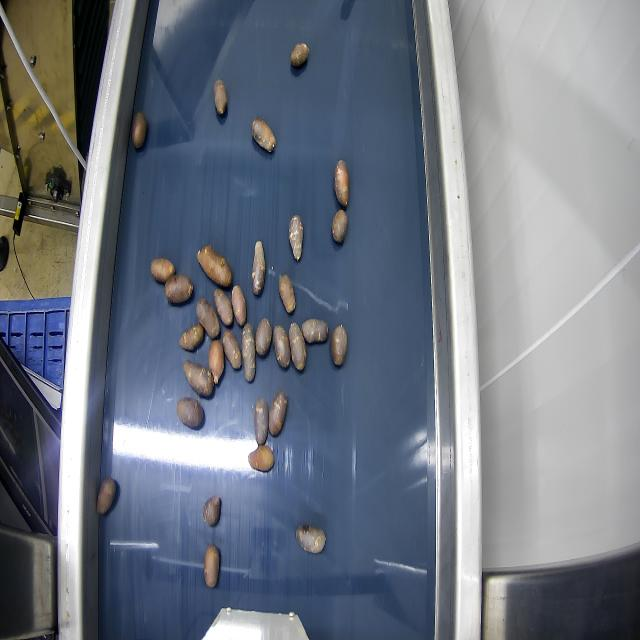Baby Potato: (196, 244, 232, 288), (184, 359, 214, 397), (175, 396, 205, 430), (296, 521, 326, 554), (196, 298, 220, 338), (268, 389, 288, 436), (288, 322, 306, 371), (164, 274, 193, 304), (251, 117, 275, 153), (272, 323, 290, 369), (222, 329, 242, 370), (242, 322, 256, 380), (213, 287, 233, 327), (253, 396, 269, 446), (96, 476, 117, 514), (300, 317, 328, 344), (278, 273, 296, 315), (251, 240, 265, 294), (203, 544, 220, 588), (330, 323, 347, 366), (334, 159, 349, 207), (288, 214, 304, 259), (248, 444, 274, 471), (150, 256, 175, 284), (208, 339, 224, 382), (255, 318, 272, 358), (180, 323, 204, 351), (231, 284, 246, 326), (131, 111, 147, 148), (331, 208, 347, 244), (202, 495, 220, 527), (213, 78, 227, 116), (290, 42, 308, 66)
